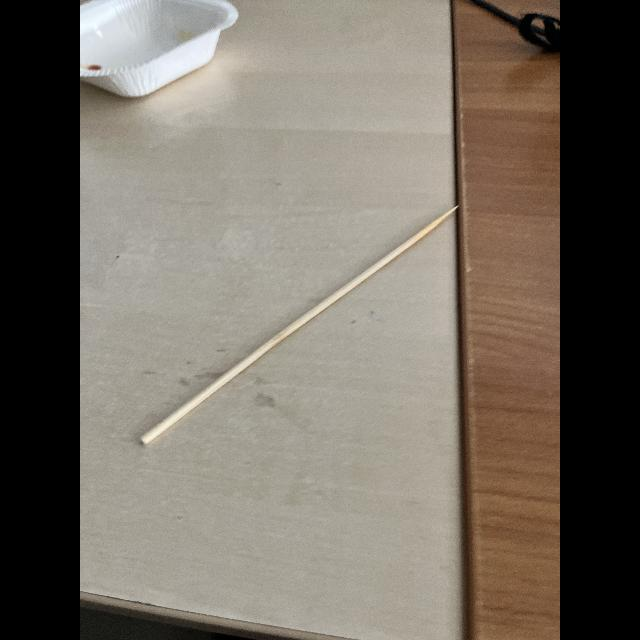cardboard_bowl: (80, 0, 254, 128)
stick: (125, 175, 461, 469)
